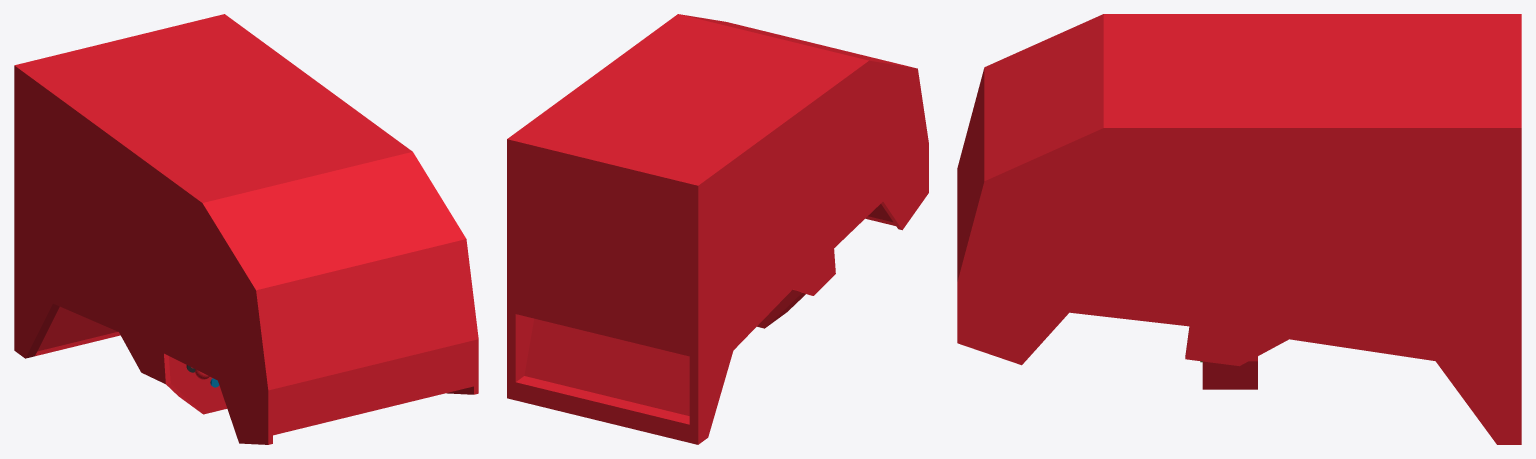
The model's file is tinker.obj.
3 views of the same model, side by side, from view 1: azimuth 30°, elevation 25°; view 2: azimuth 150°, elevation 25°; view 3: azimuth 270°, elevation 25° (orthographic). The views are drawn at different scales.
Visible parts, largest first — view 1: group_0_-1499859; view 2: group_0_-1499859; view 3: group_0_-1499859.
Part boxes in pixels (x1,y1,x2,y2): group_0_-1499859: (14,14,478,444); group_0_-1499859: (507,14,928,444); group_0_-1499859: (957,14,1521,444).
Size of the model in its own units: 44 by 57.19 by 92.
